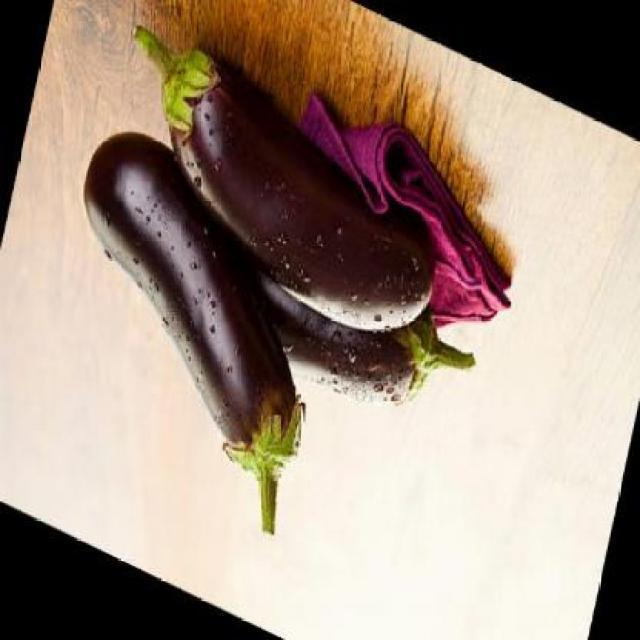eggplant: (33, 111, 347, 544), (94, 15, 457, 358), (229, 215, 483, 443)
